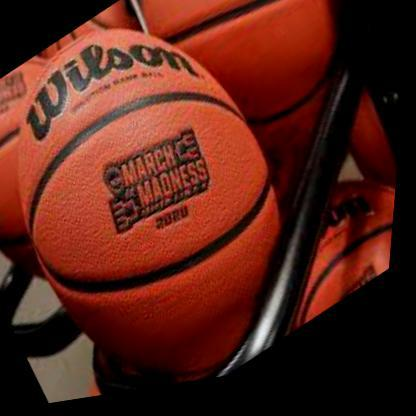basketball: (0, 0, 361, 416), (114, 0, 403, 206), (0, 36, 151, 307), (244, 150, 403, 347)
